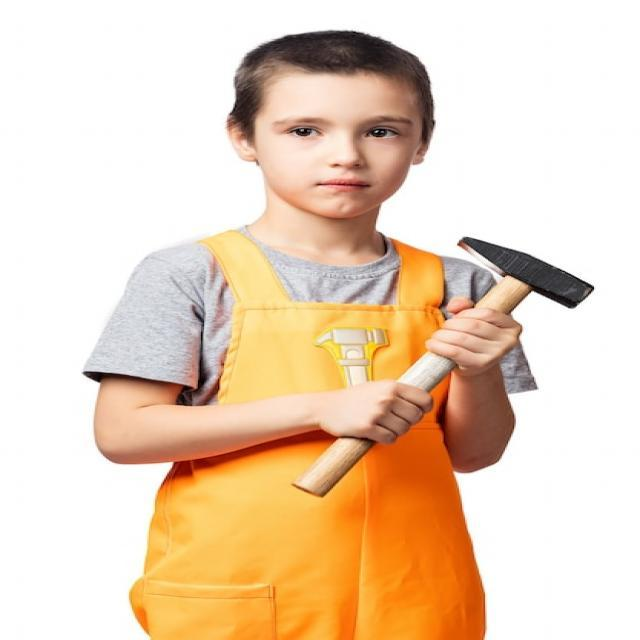hammer: (290, 222, 597, 506)
